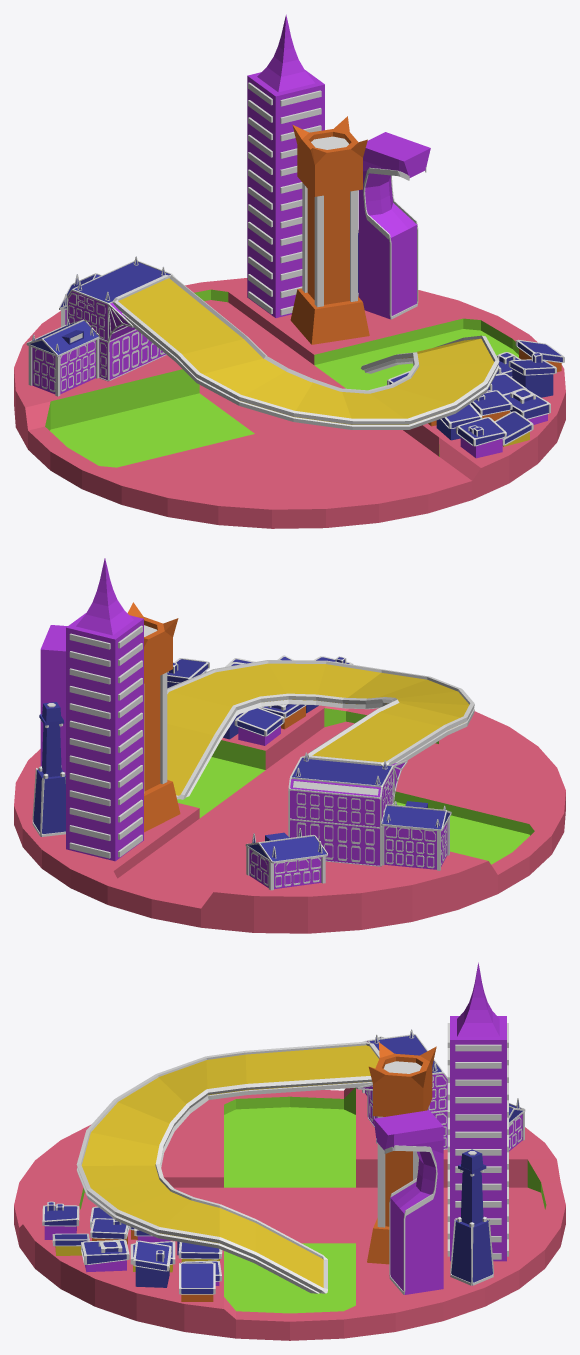
The model's file is city.fbx.
The picture shows the model from 3 angles, top to bottom: view 1: azimuth 30°, elevation 25°; view 2: azimuth 150°, elevation 25°; view 3: azimuth 270°, elevation 25°; orthographic projection.
Parts seen in each view (by area): view 1: Ground, Stairway, Skyscraper 2, Skyscraper 3, Rail Lights, Windows, Mansion, Lid, Skyscraper 1, Base, Pillars, Mansion.001 (+6 smaller); view 2: Ground, Stairway, Skyscraper 2, Mansion, Windows, Rail Lights, Skyscraper 3, Skyscraper 4, Mansion.001, Skyscraper 1, Lid, Antenna (+10 smaller); view 3: Ground, Stairway, Rail Lights, Skyscraper 3, Skyscraper 2, Windows, Lid, Skyscraper 4, Mansion, Antenna, Skyscraper 1, Lights.001 (+11 smaller).
Boxes of the visible parts, <box> form: Ground: <box>14,278,565,528</box>; Stairway: <box>118,278,493,424</box>; Skyscraper 2: <box>247,70,324,317</box>; Skyscraper 3: <box>358,132,430,319</box>; Rail Lights: <box>112,275,499,429</box>; Windows: <box>248,82,321,315</box>; Mansion: <box>68,262,170,381</box>; Lid: <box>292,116,367,196</box>; Skyscraper 1: <box>307,189,349,304</box>; Base: <box>290,288,369,344</box>; Pillars: <box>302,183,357,307</box>; Mansion.001: <box>32,340,95,394</box>; Ground: <box>14,705,565,933</box>; Stairway: <box>167,663,469,795</box>; Skyscraper 2: <box>66,613,143,861</box>; Mansion: <box>290,758,405,865</box>; Windows: <box>69,625,142,858</box>; Rail Lights: <box>167,660,474,799</box>; Skyscraper 3: <box>40,625,67,774</box>; Skyscraper 4: <box>33,702,65,836</box>; Mansion.001: <box>384,822,447,869</box>; Skyscraper 1: <box>144,676,160,791</box>; Lid: <box>127,602,178,683</box>; Antenna: <box>76,558,133,635</box>; Ground: <box>14,1088,565,1340</box>; Stairway: <box>81,1045,378,1287</box>; Rail Lights: <box>76,1041,379,1293</box>; Skyscraper 3: <box>374,1110,443,1294</box>; Skyscraper 2: <box>450,1016,506,1261</box>; Windows: <box>447,1023,508,1259</box>; Lid: <box>368,1042,436,1116</box>; Skyscraper 4: <box>450,1149,492,1285</box>; Mansion: <box>362,1035,447,1148</box>; Antenna: <box>457,962,499,1036</box>; Skyscraper 1: <box>385,1151,412,1226</box>; Lights.001: <box>376,1138,437,1294</box>.
Bounding box in the file's own units: 1411 × 864 × 1411.
